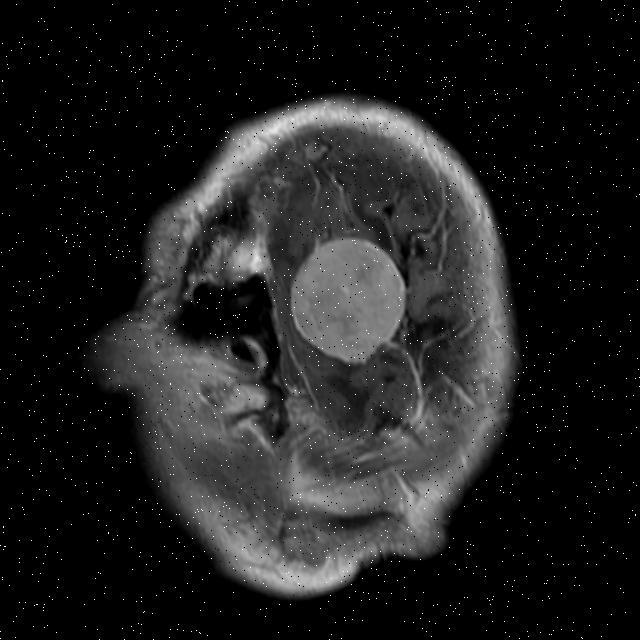Meningioma: (270, 219, 424, 383)
